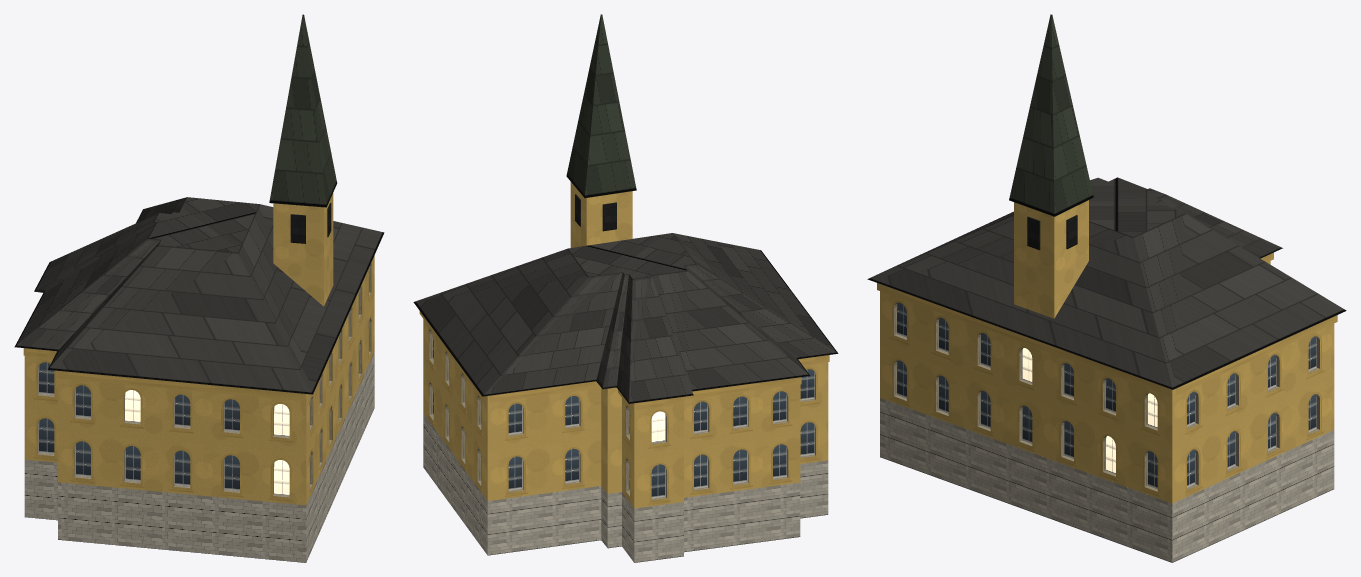
The model's file is k39w3_bethaus.glb.
The picture shows the model from 3 angles, left to right: view 1: azimuth 30°, elevation 25°; view 2: azimuth 150°, elevation 25°; view 3: azimuth 270°, elevation 25°; orthographic projection. The views are drawn at different scales.
Parts seen in each view (by area): view 1: k39w3_bethaus; view 2: k39w3_bethaus; view 3: k39w3_bethaus.
Part boxes in pixels (x1,y1,x2,y2): k39w3_bethaus: (14,14,384,562); k39w3_bethaus: (413,14,838,562); k39w3_bethaus: (867,14,1346,562).
Bounding box in the file's own units: 26.58 × 30.1 × 27.08.
Materials: 3 (3 with a texture image).
